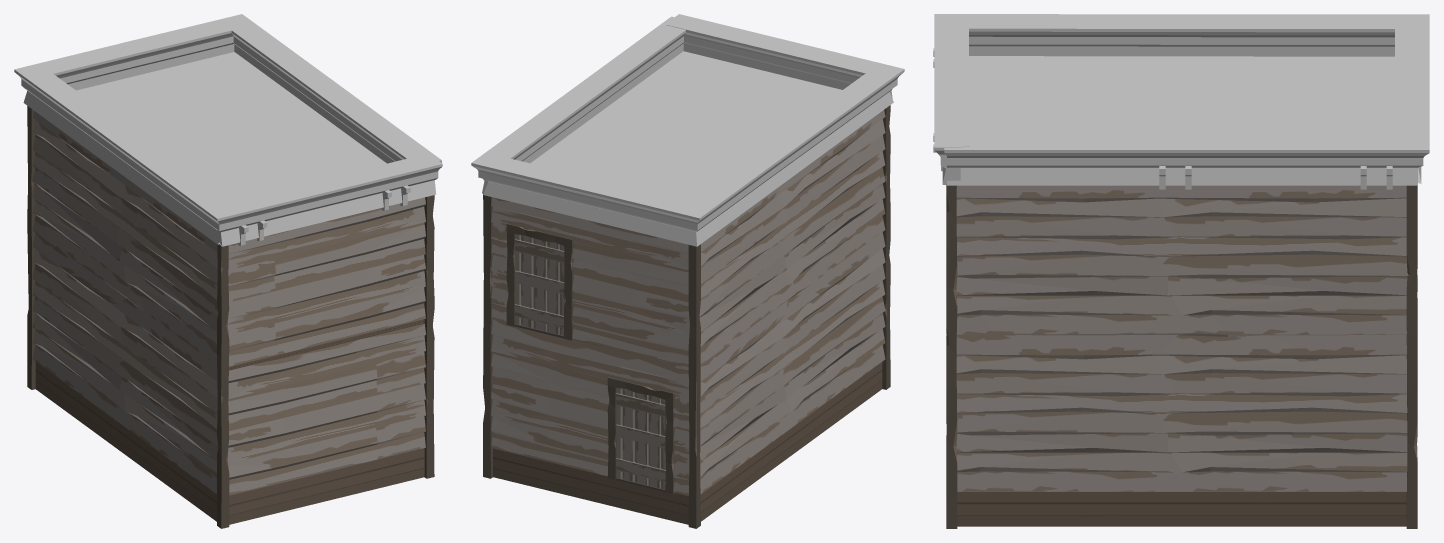
File: SM_Bld_Double_03.fbx
3 renders of one model, left to right at view 1: azimuth 30°, elevation 25°; view 2: azimuth 150°, elevation 25°; view 3: azimuth 270°, elevation 25°, orthographic. The views are drawn at different scales.
Parts seen in each view (by area): view 1: SM_Bld_Saloon_02; view 2: SM_Bld_Saloon_02; view 3: SM_Bld_Saloon_02.
Boxes of the visible parts, <box> form: SM_Bld_Saloon_02: <box>14,14,442,528</box>; SM_Bld_Saloon_02: <box>471,14,904,528</box>; SM_Bld_Saloon_02: <box>933,14,1429,528</box>.
Size of the model in its own units: 559 by 735 by 863.
